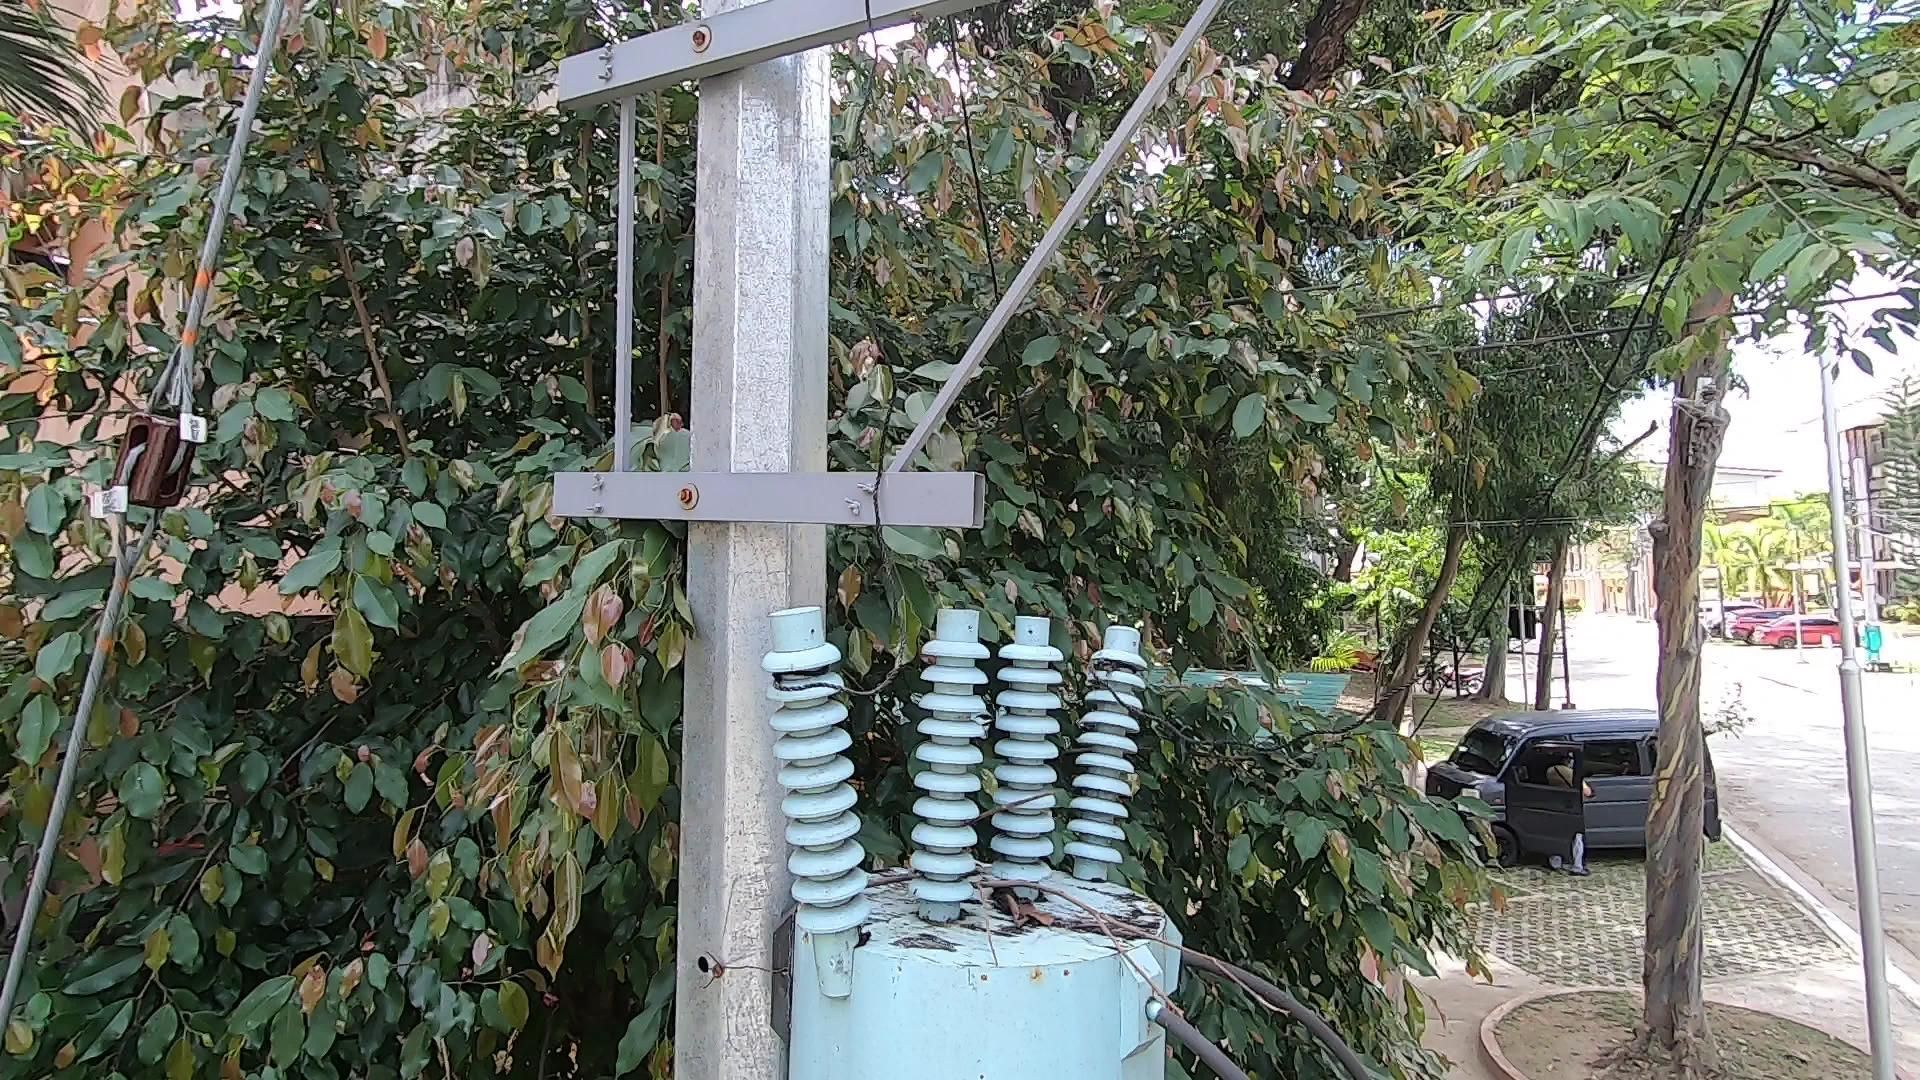leaf: (982, 877, 1054, 928)
tree branch: (840, 837, 1302, 1036)
